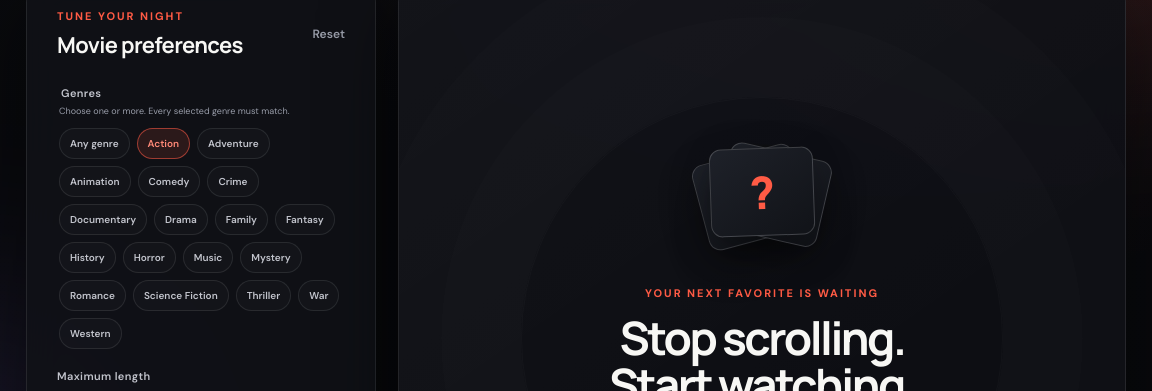
Test: lets the user combine multiple genres
This screenshot has width=1152, height=391.
(page scrolled)
Click the button "Mystery": click(271, 258) [240,242,302,273]
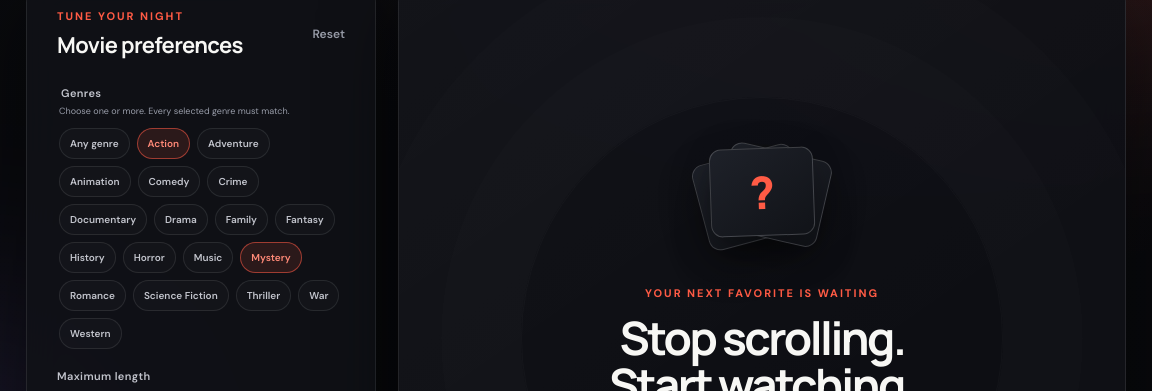
Click the button "Thriller": click(263, 296) [236,280,291,311]
(page scrolled)
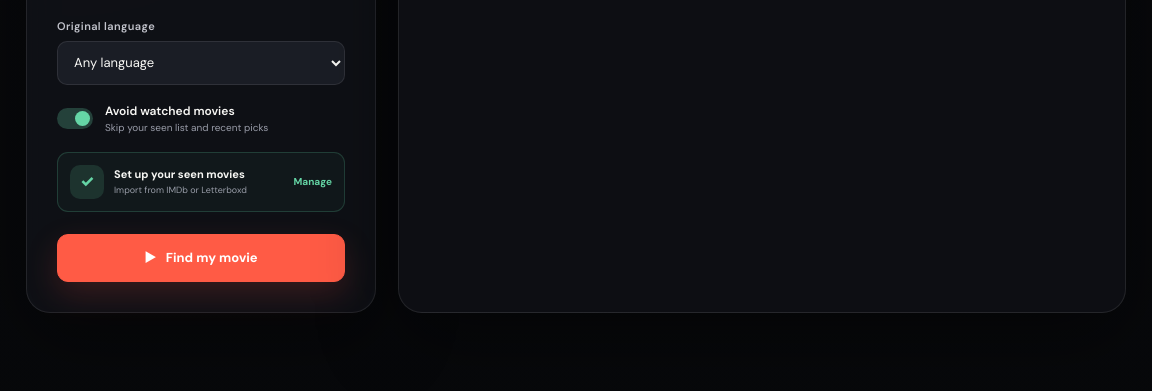
Click the button "▶ Find my movie": click(201, 258) [57,234,345,282]
(page scrolled)
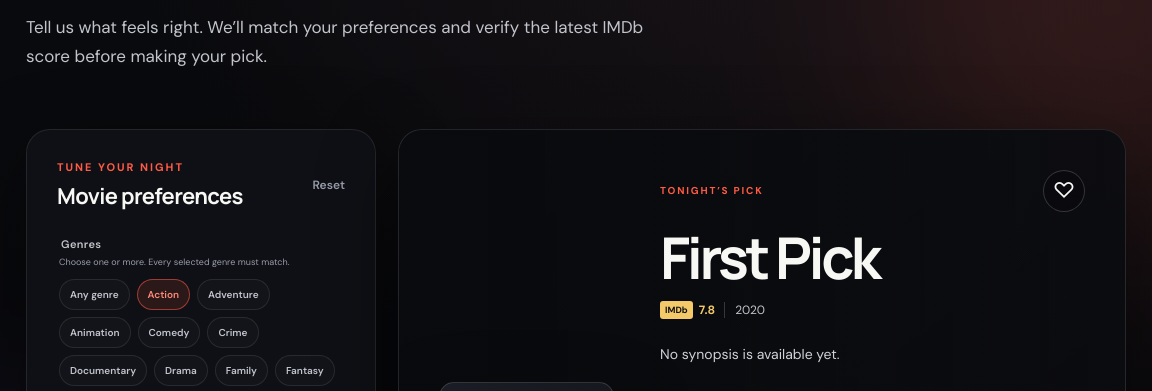
Expected: the heading "First Pick" is shown, [660,218,878,296]
